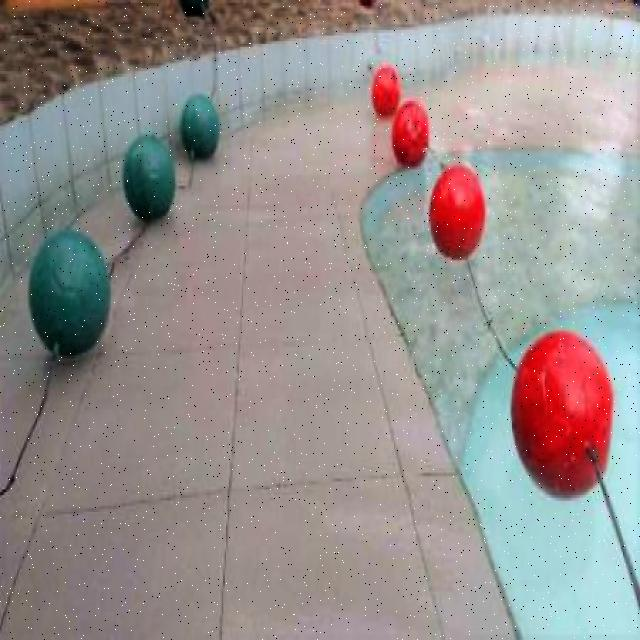buoy: (510, 332, 616, 500), (28, 228, 110, 358), (428, 165, 486, 262), (122, 135, 174, 221), (392, 96, 430, 167), (182, 93, 218, 159), (370, 67, 400, 119)
